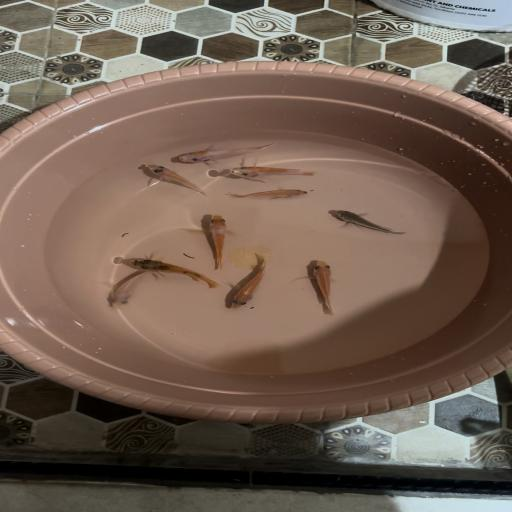nila: (216, 253, 281, 313), (128, 255, 222, 288), (192, 210, 242, 268), (173, 140, 279, 166), (301, 258, 345, 318), (325, 206, 412, 236), (106, 269, 167, 310), (137, 163, 213, 195), (221, 164, 325, 184), (224, 188, 316, 202)
